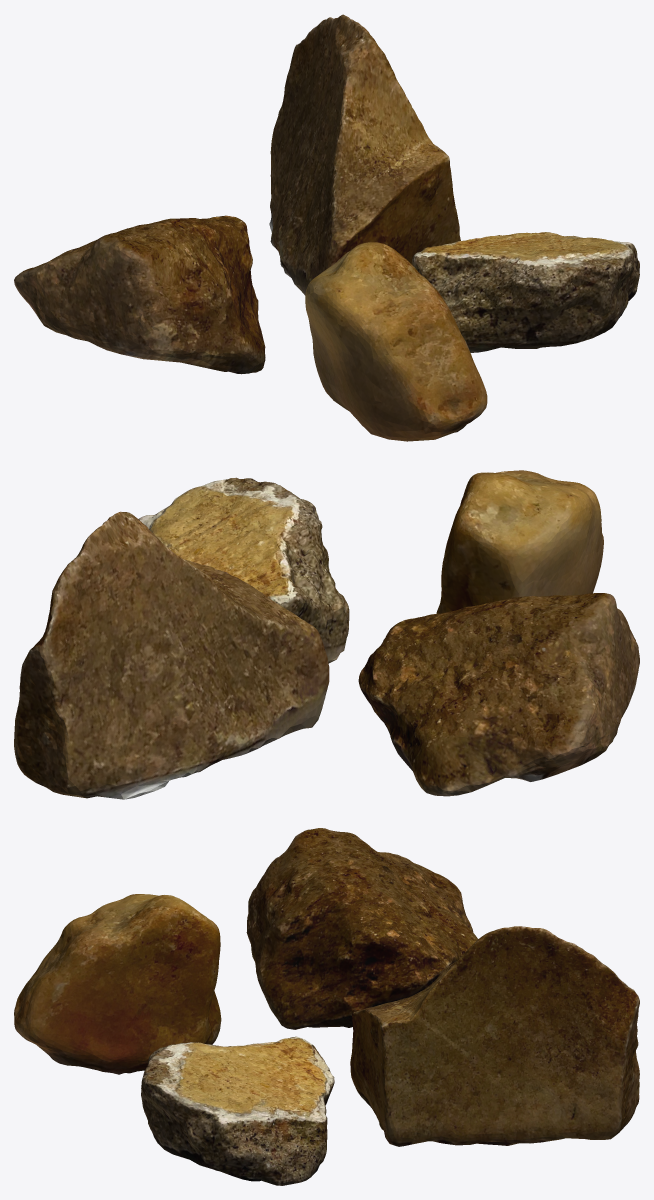
The model's file is 23_otas.gltf.
3 renders of one model, top to bottom at view 1: azimuth 30°, elevation 25°; view 2: azimuth 150°, elevation 25°; view 3: azimuth 270°, elevation 25°, orthographic. The views are drawn at different scales.
Visible parts, largest first — view 1: model_New Qlone_20240526_102316861; view 2: model_New Qlone_20240526_102316861; view 3: model_New Qlone_20240526_102316861.
Part boxes in pixels (<box>): model_New Qlone_20240526_102316861: <box>14,14,639,441</box>; model_New Qlone_20240526_102316861: <box>14,470,639,799</box>; model_New Qlone_20240526_102316861: <box>14,828,639,1185</box>.
Bounding box in the file's own units: 1.55 × 0.6297 × 1.65.
